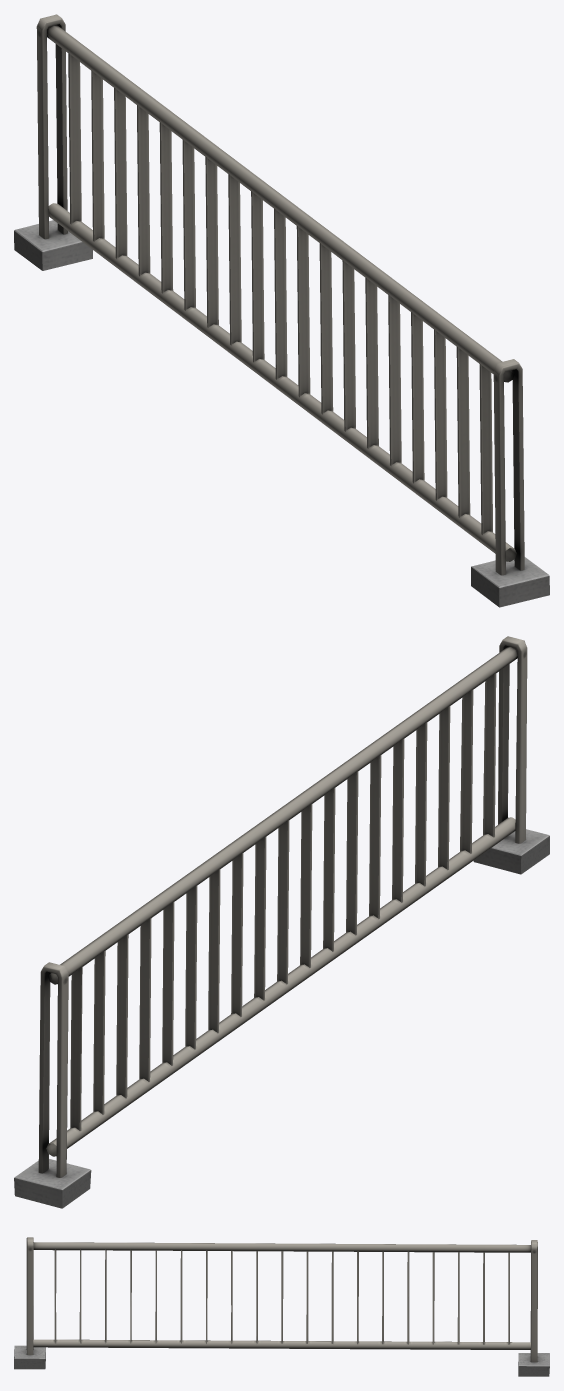
The model's file is Preset_SafeFenceBa.fbx.
3 views of the same model, one above another, from view 1: azimuth 30°, elevation 25°; view 2: azimuth 150°, elevation 25°; view 3: azimuth 270°, elevation 25° (orthographic). The views are drawn at different scales.
Visible parts, largest first — view 1: Fence, PoleB, PoleA; view 2: Fence, PoleA, PoleB; view 3: Fence, PoleB, PoleA.
Boxes of the visible parts, x1,y1,x2,y2 form: Fence: (47,25,516,561); PoleB: (471,359,549,607); PoleA: (14,14,92,270); Fence: (46,646,517,1156); PoleA: (14,962,91,1208); PoleB: (473,636,549,874); Fence: (33,1242,530,1349); PoleB: (14,1237,45,1369); PoleA: (518,1240,549,1376).
Size of the model in its own units: 22.85 by 319 by 83.87.
Materials: 1 (1 with a texture image).
